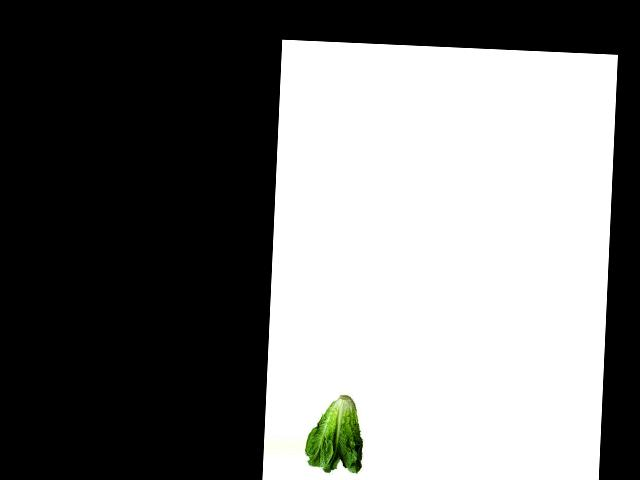lettuce: (304, 391, 366, 474)
